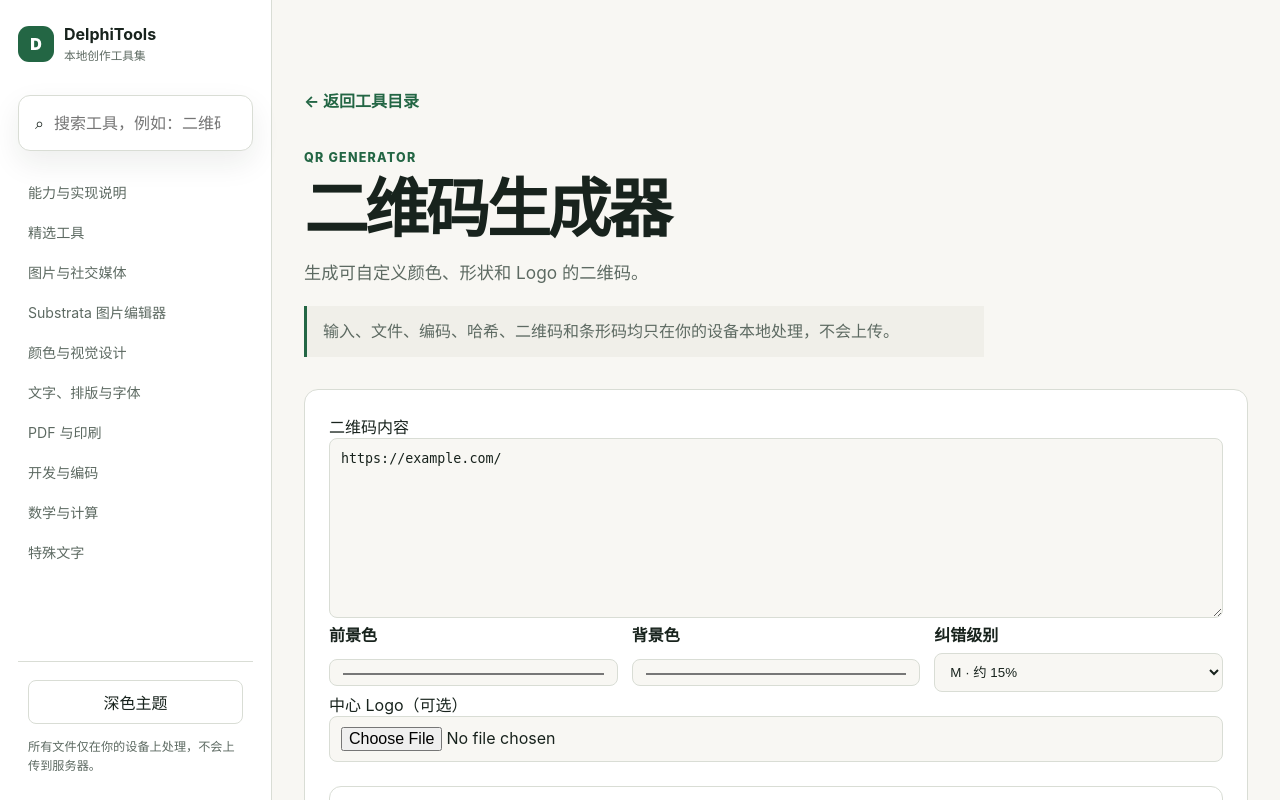
应用壳 › 工具页侧栏提供可访问的全局中文搜索并返回过滤后的目录
The image size is (1280, 800).
Type "二维码" into the search field named "搜索工具".
click(145, 123); type("二维码")  # box [54, 96, 236, 150]
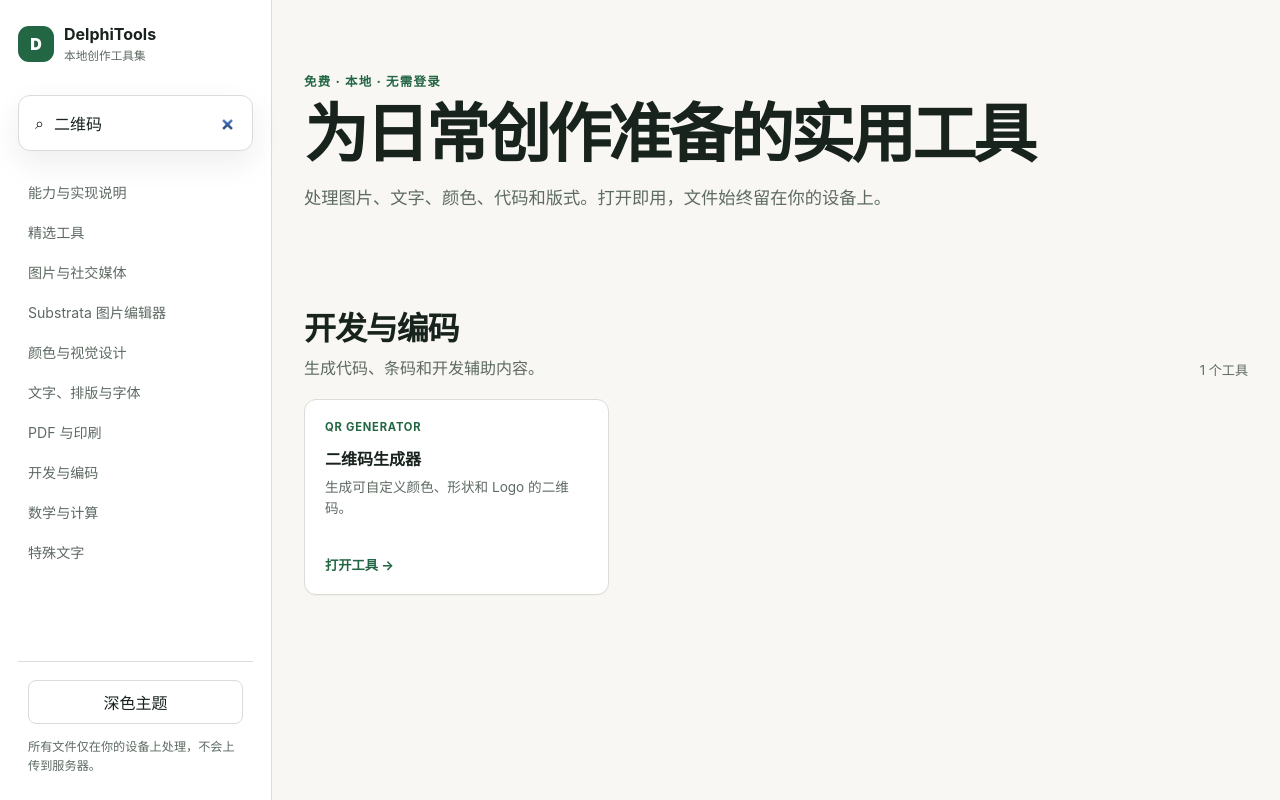
expect the link "QR Generator 二维码生成器 生成可自定义颜色、形状和 Logo 的二维码。 打开工具 →" is shown: met, box [304, 399, 609, 595]
